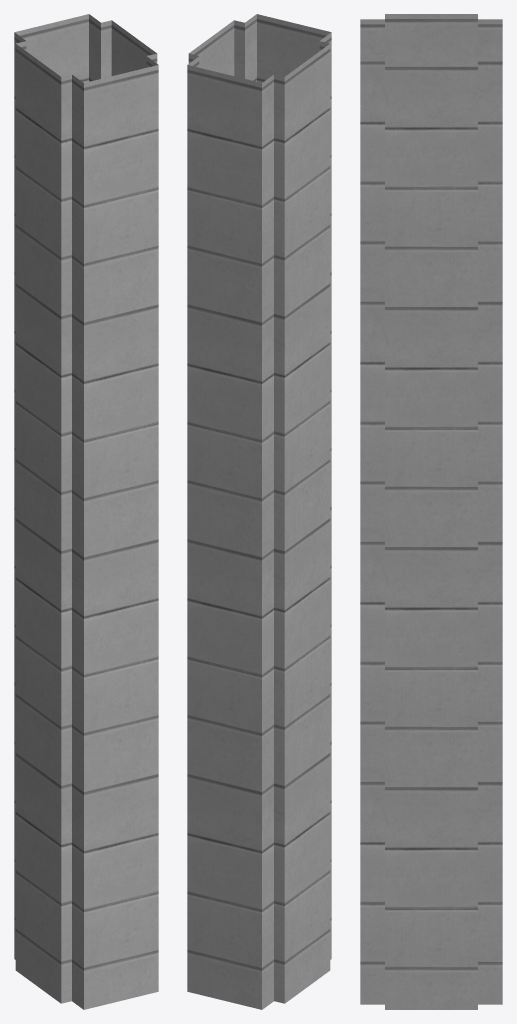
File: RiverPillar_A_01.fbx
The picture shows the model from 3 angles, left to right: view 1: azimuth 30°, elevation 25°; view 2: azimuth 150°, elevation 25°; view 3: azimuth 270°, elevation 25°; orthographic projection. The views are drawn at different scales.
Parts seen in each view (by area): view 1: RiverPillar_A_01; view 2: RiverPillar_A_01; view 3: RiverPillar_A_01.
Part boxes in pixels (x1=…): RiverPillar_A_01: x1=14, y1=14, x2=158, y2=1009; RiverPillar_A_01: x1=187, y1=14, x2=331, y2=1009; RiverPillar_A_01: x1=360, y1=14, x2=502, y2=1009.
Size of the model in its own units: 128 by 1185 by 161.
Materials: 1 (1 with a texture image).
